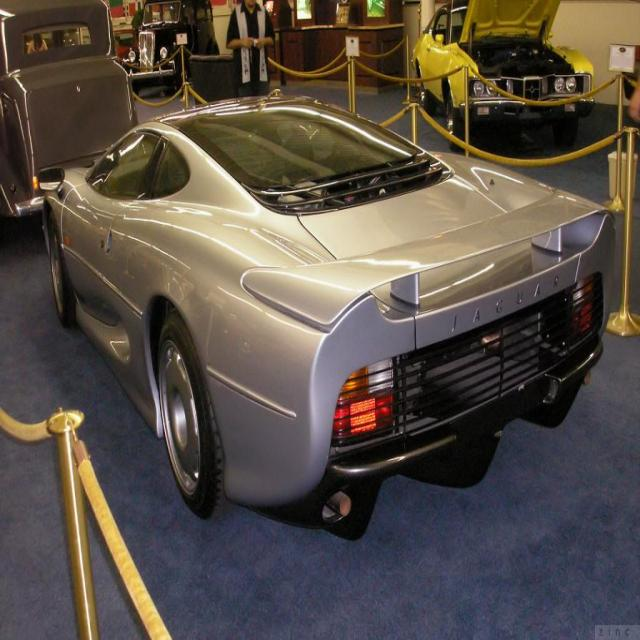car: (38, 79, 598, 538), (0, 0, 132, 239), (408, 0, 591, 151), (124, 0, 191, 106)
